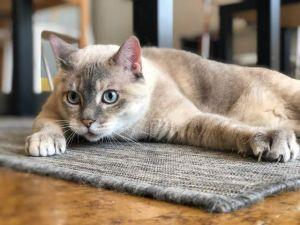siamese: (46, 26, 152, 146)
